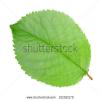Apple leaf: (6, 9, 94, 89)
